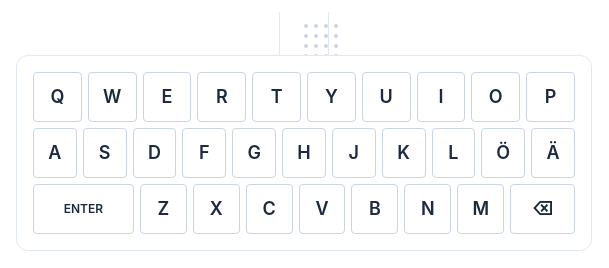
Test: SanuriGame › shows an error for a guess that is not a real word
The image size is (609, 268).
Expected: the button "K" is enabled, [382,128,426,178]
Click the button "Z".
click(163, 209)  # box [140,184,187,234]
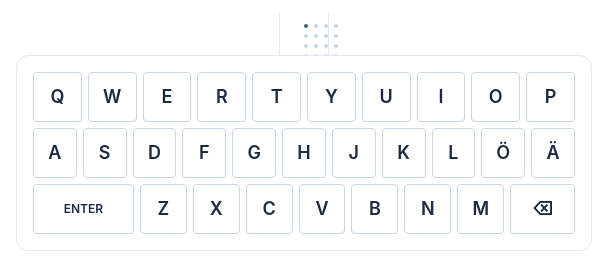
Click the button "Z".
click(163, 209)  # box [140,184,187,234]
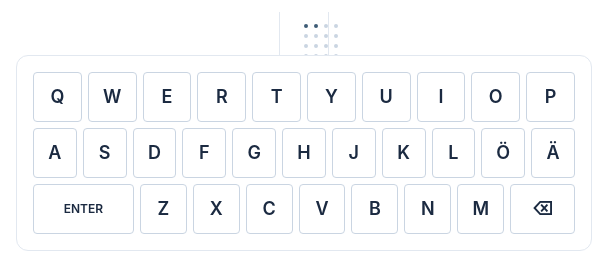
Click the button "Z".
click(163, 209)  # box [140,184,187,234]
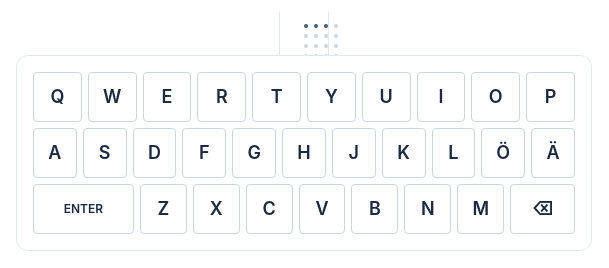
Click the button "Z".
click(163, 209)  # box [140,184,187,234]
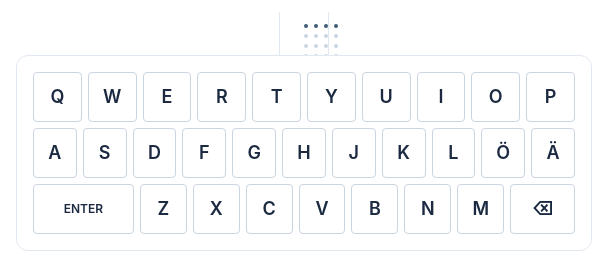
Click the button with aria-label "Tarkista arvaus".
click(83, 209)  # box [33,184,134,234]
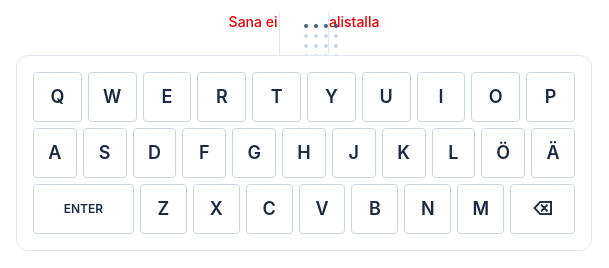
Expected: the message reads "Sana ei ole sanalistalla", [229,13,379,30]
